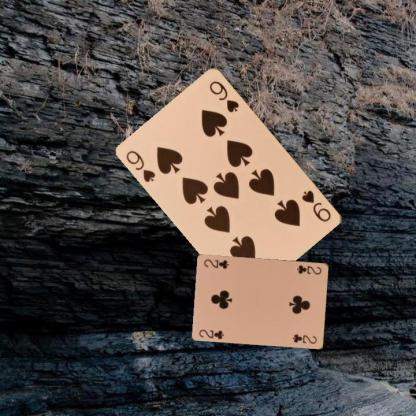2c: (294, 262, 323, 276), (197, 326, 225, 340)
9s: (299, 187, 333, 223), (124, 148, 157, 184)
